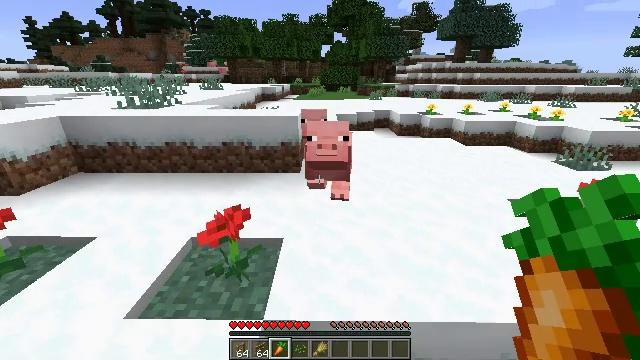pig: (305, 122, 353, 190), (300, 109, 328, 161)
